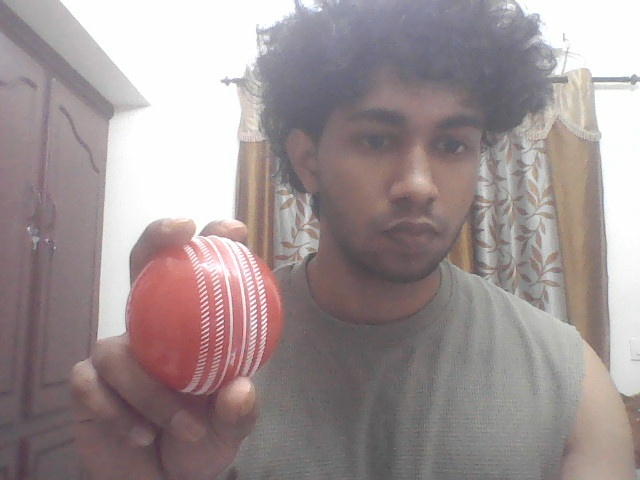cricket_ball: (124, 235, 287, 403)
